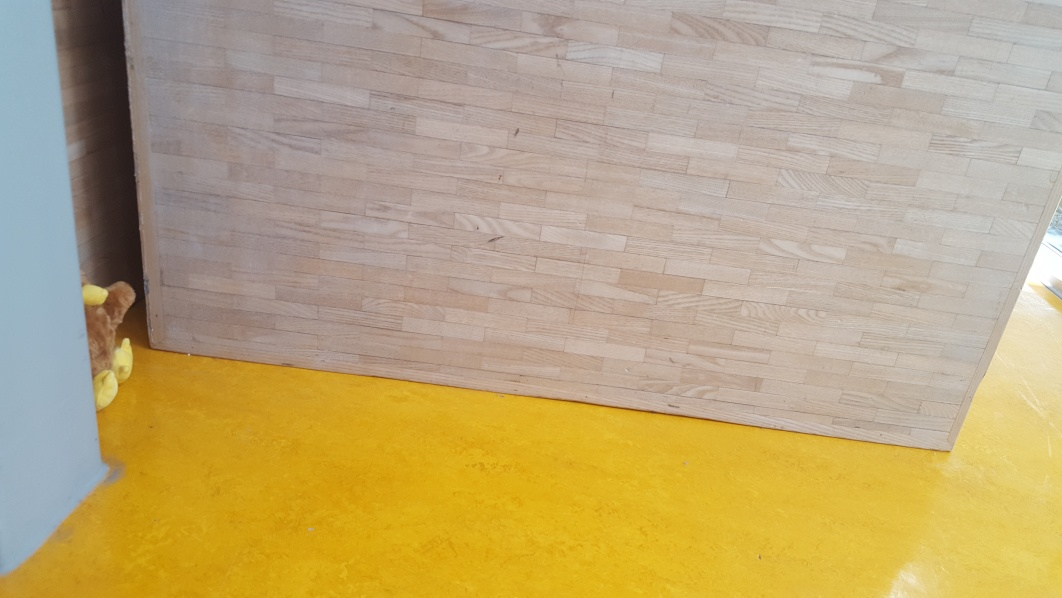chicken: (84, 280, 137, 407)
